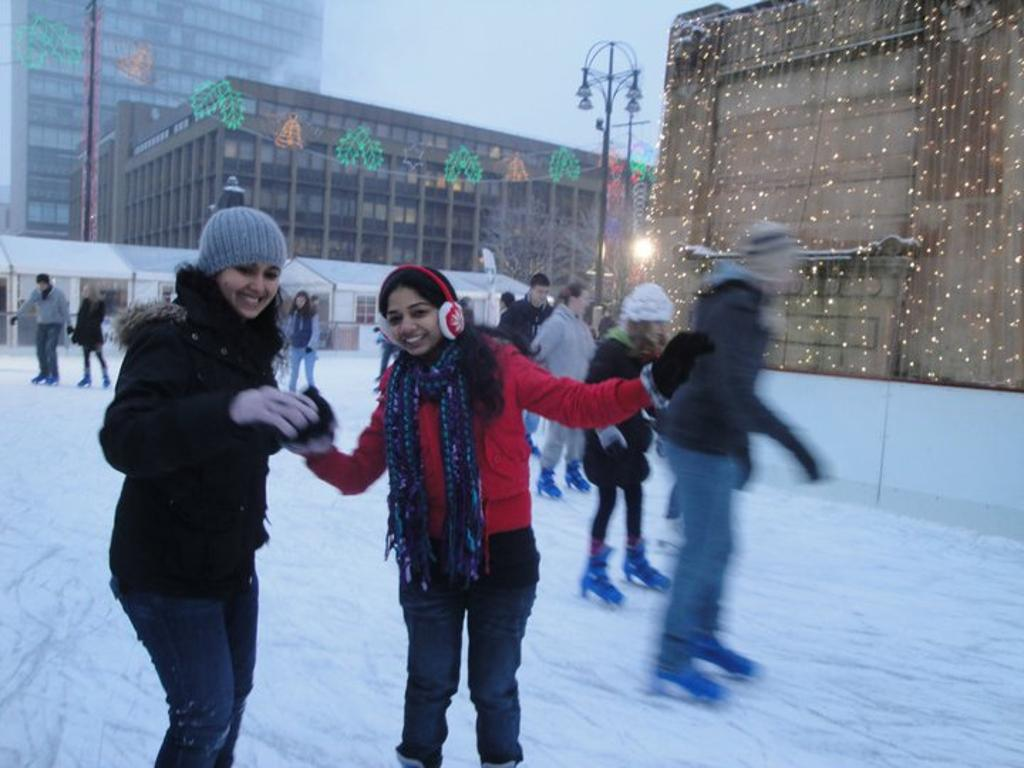face: (217, 249, 281, 321), (388, 286, 442, 356), (646, 317, 665, 345), (575, 289, 588, 314), (535, 283, 549, 304), (297, 296, 306, 310), (84, 286, 91, 298), (39, 281, 47, 291), (467, 300, 475, 309), (500, 298, 506, 309)
